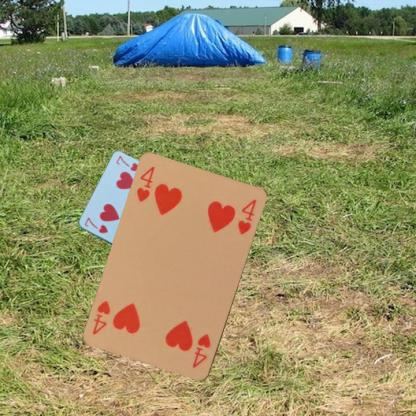4h: (190, 331, 212, 370), (134, 164, 156, 203)
7h: (82, 215, 109, 235)
